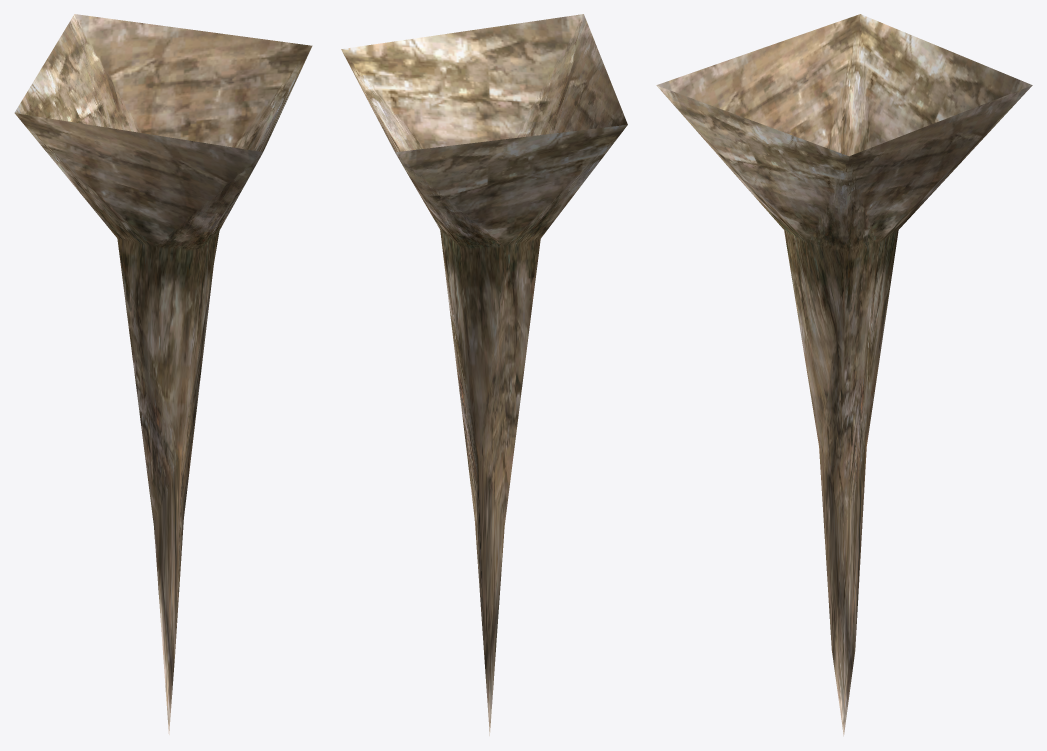
Rendered from thm_all_cave_stalagtite_b3_l2.fbx.
3 views of the same model, side by side, from view 1: azimuth 30°, elevation 25°; view 2: azimuth 150°, elevation 25°; view 3: azimuth 270°, elevation 25° (orthographic).
Visible parts, largest first — view 1: mesh_node; view 2: mesh_node; view 3: mesh_node.
Boxes of the visible parts, x1,y1,x2,y2 form: mesh_node: (14,14,312,734); mesh_node: (341,14,627,735); mesh_node: (656,14,1032,736).
Bounding box in the file's own units: 2.43 × 5.18 × 2.71.
